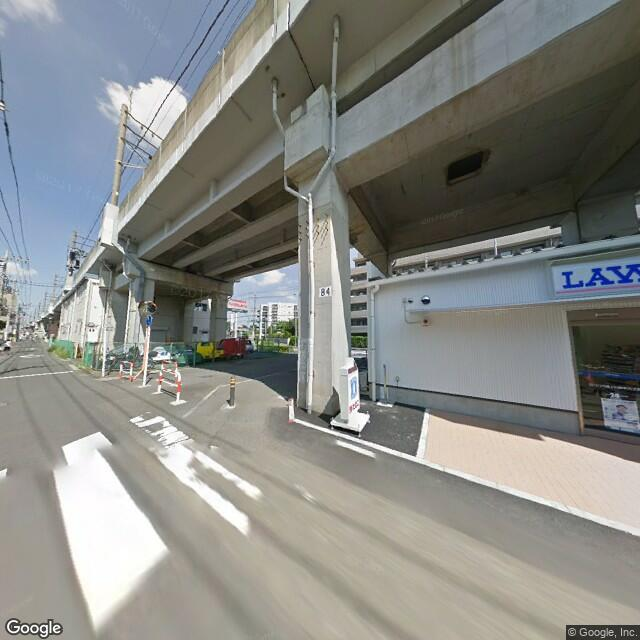lawson: (556, 255, 638, 301)
